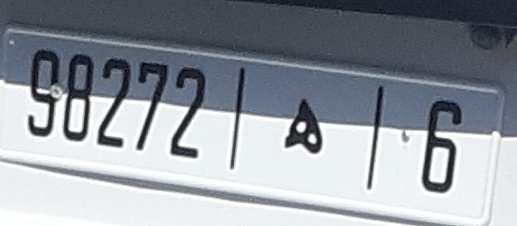2: (169, 64, 214, 164), (93, 55, 136, 147)
6: (419, 92, 461, 196)
7: (127, 57, 172, 155)
8: (60, 55, 98, 138)
9: (23, 45, 63, 142)
h: (271, 89, 332, 158)
